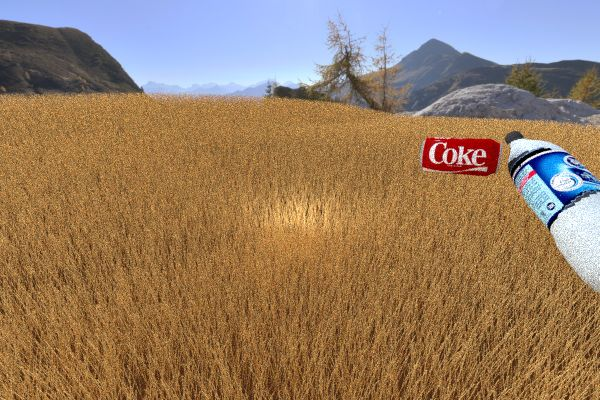bottle: (503, 129, 600, 303)
can: (144, 101, 178, 123), (217, 105, 254, 125)
